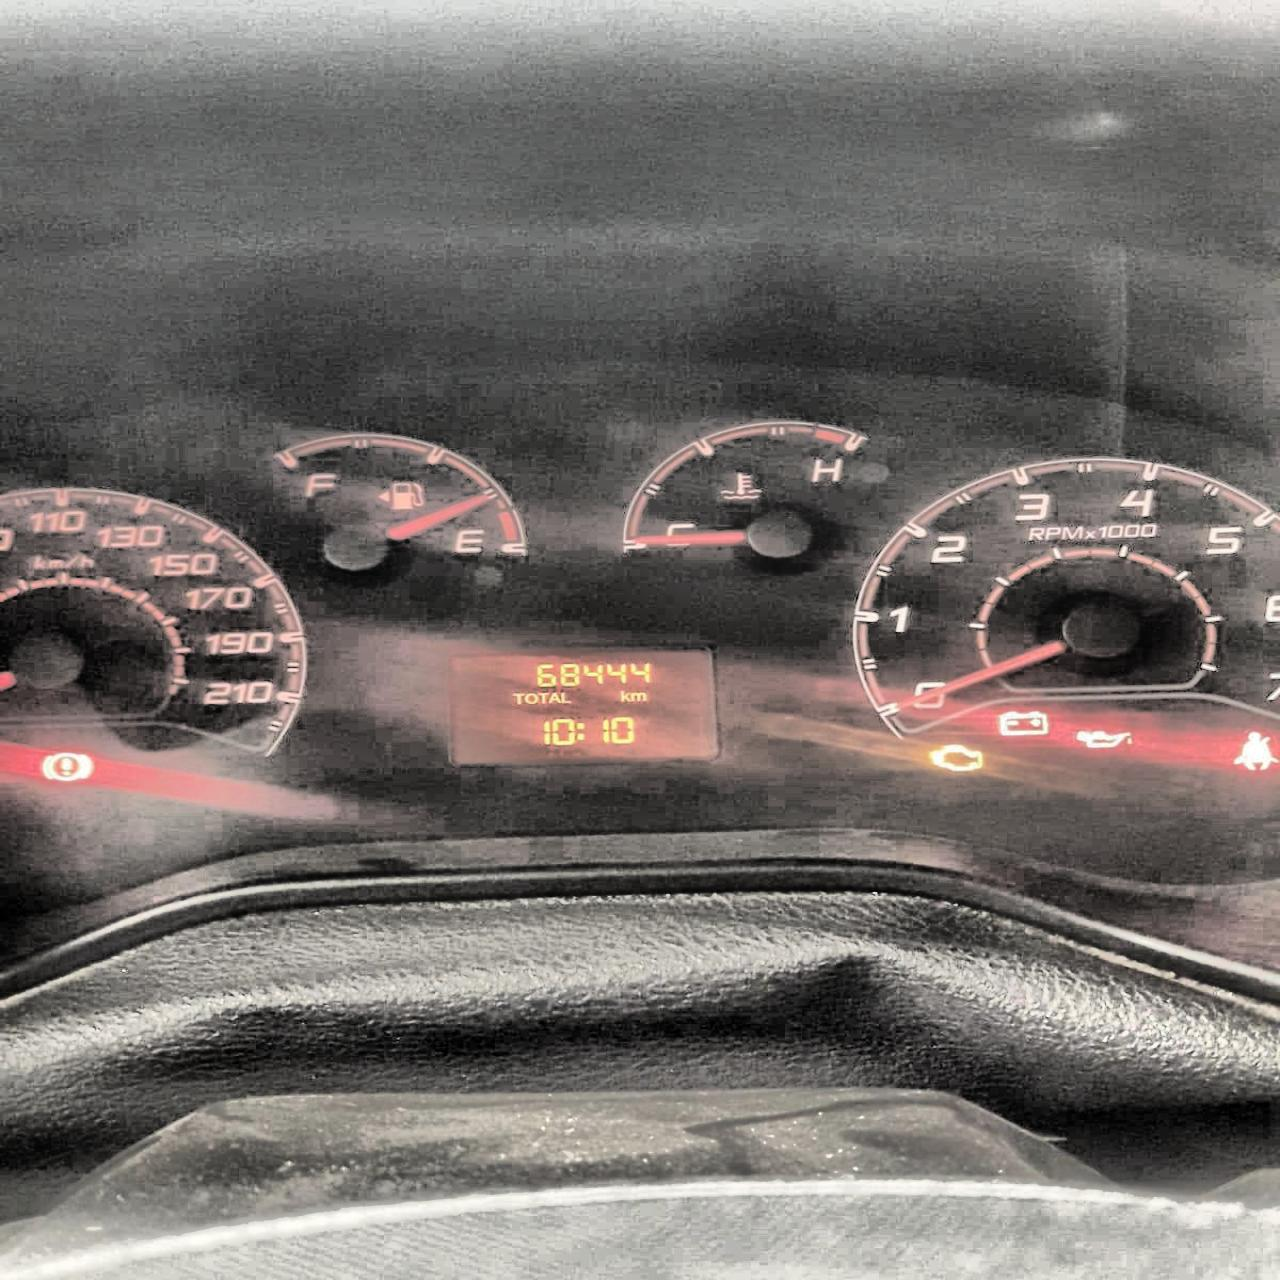0: (551, 717, 574, 747), (611, 716, 634, 745)
1: (539, 719, 550, 748), (600, 717, 611, 745)
4: (628, 661, 653, 682), (580, 662, 602, 685), (606, 662, 625, 685)
6: (533, 662, 558, 688)
8: (559, 661, 581, 687)
X: (573, 721, 585, 742), (524, 692, 538, 704), (631, 690, 647, 701), (511, 692, 524, 704), (560, 690, 571, 703), (538, 692, 549, 704), (549, 690, 559, 703), (620, 688, 629, 702)
odometer: (448, 646, 715, 761)
